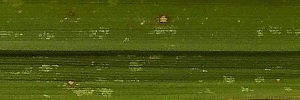RiceBlast: (154, 12, 173, 29), (65, 8, 79, 20)
